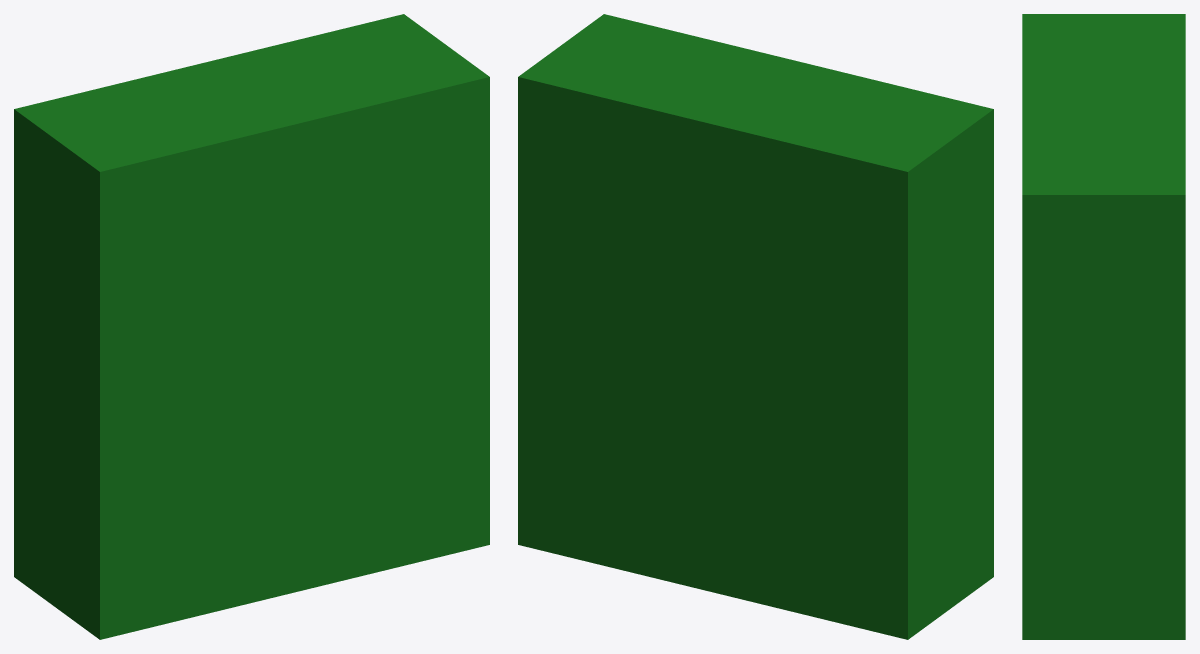
File: CerealiCioccolato500g.fbx
3 views of the same model, side by side, from view 1: azimuth 30°, elevation 25°; view 2: azimuth 150°, elevation 25°; view 3: azimuth 270°, elevation 25° (orthographic). The views are drawn at different scales.
Visible parts, largest first — view 1: CerealiSecondoTipoGrande; view 2: CerealiSecondoTipoGrande; view 3: CerealiSecondoTipoGrande.
Part boxes in pixels (x1,y1,x2,y2): CerealiSecondoTipoGrande: (14, 14, 489, 639); CerealiSecondoTipoGrande: (518, 14, 993, 639); CerealiSecondoTipoGrande: (1022, 14, 1185, 639).
Size of the model in its own units: 276 by 317 by 105.
